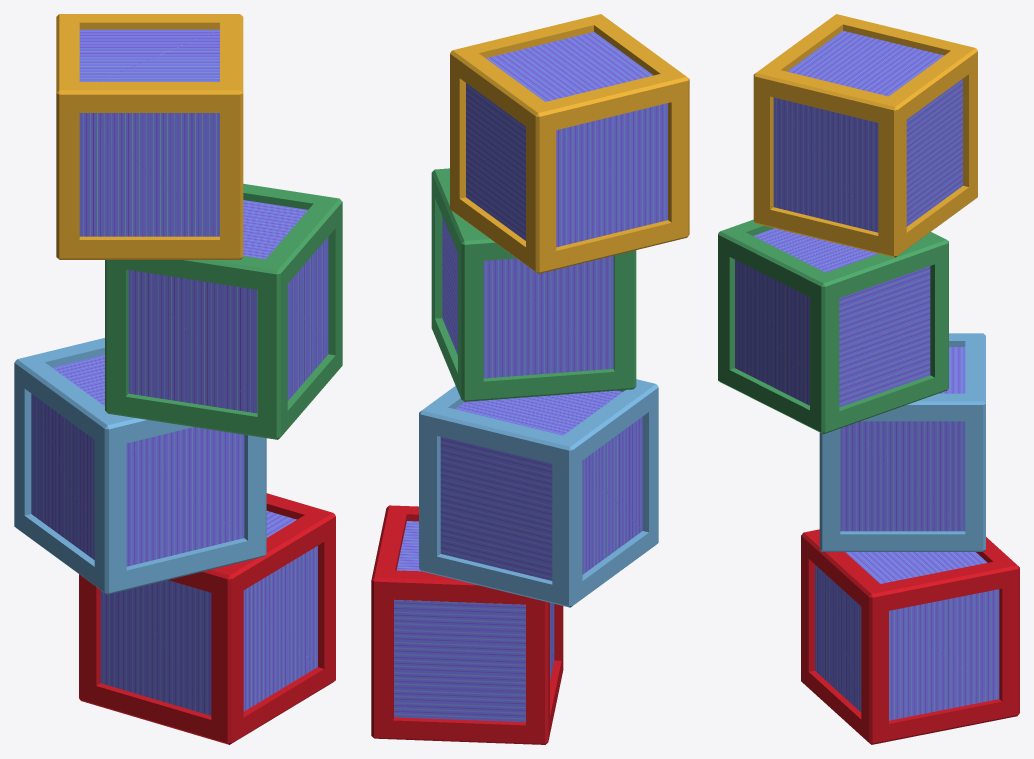
File: WoodBlocks_Group_D_00.FBX
The picture shows the model from 3 angles, left to right: view 1: azimuth 30°, elevation 25°; view 2: azimuth 150°, elevation 25°; view 3: azimuth 270°, elevation 25°; orthographic projection. The views are drawn at different scales.
Visible parts, largest first — view 1: WoodBlocks_Group_D_Rough_00, WoodBlocks_Group_D_00; view 2: WoodBlocks_Group_D_Rough_00, WoodBlocks_Group_D_00; view 3: WoodBlocks_Group_D_Rough_00, WoodBlocks_Group_D_00.
Part boxes in pixels (x1,y1,x2,y2): WoodBlocks_Group_D_Rough_00: [31, 29, 328, 715]; WoodBlocks_Group_D_00: [14, 14, 342, 744]; WoodBlocks_Group_D_Rough_00: [394, 32, 667, 722]; WoodBlocks_Group_D_00: [371, 14, 689, 744]; WoodBlocks_Group_D_Rough_00: [735, 30, 999, 720]; WoodBlocks_Group_D_00: [718, 14, 1019, 744].
Bounding box in the file's own units: 2.21 × 4.8 × 2.18.
